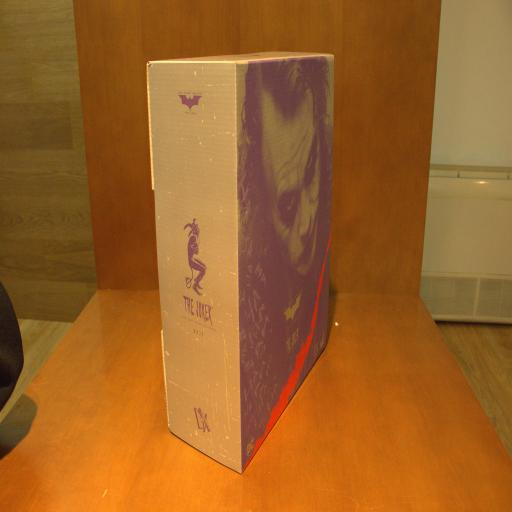Joker: (147, 50, 331, 474)
